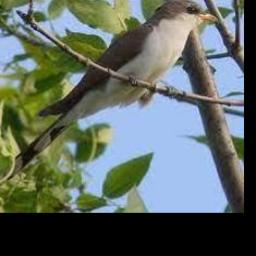Cuckoo: (0, 0, 219, 182)
